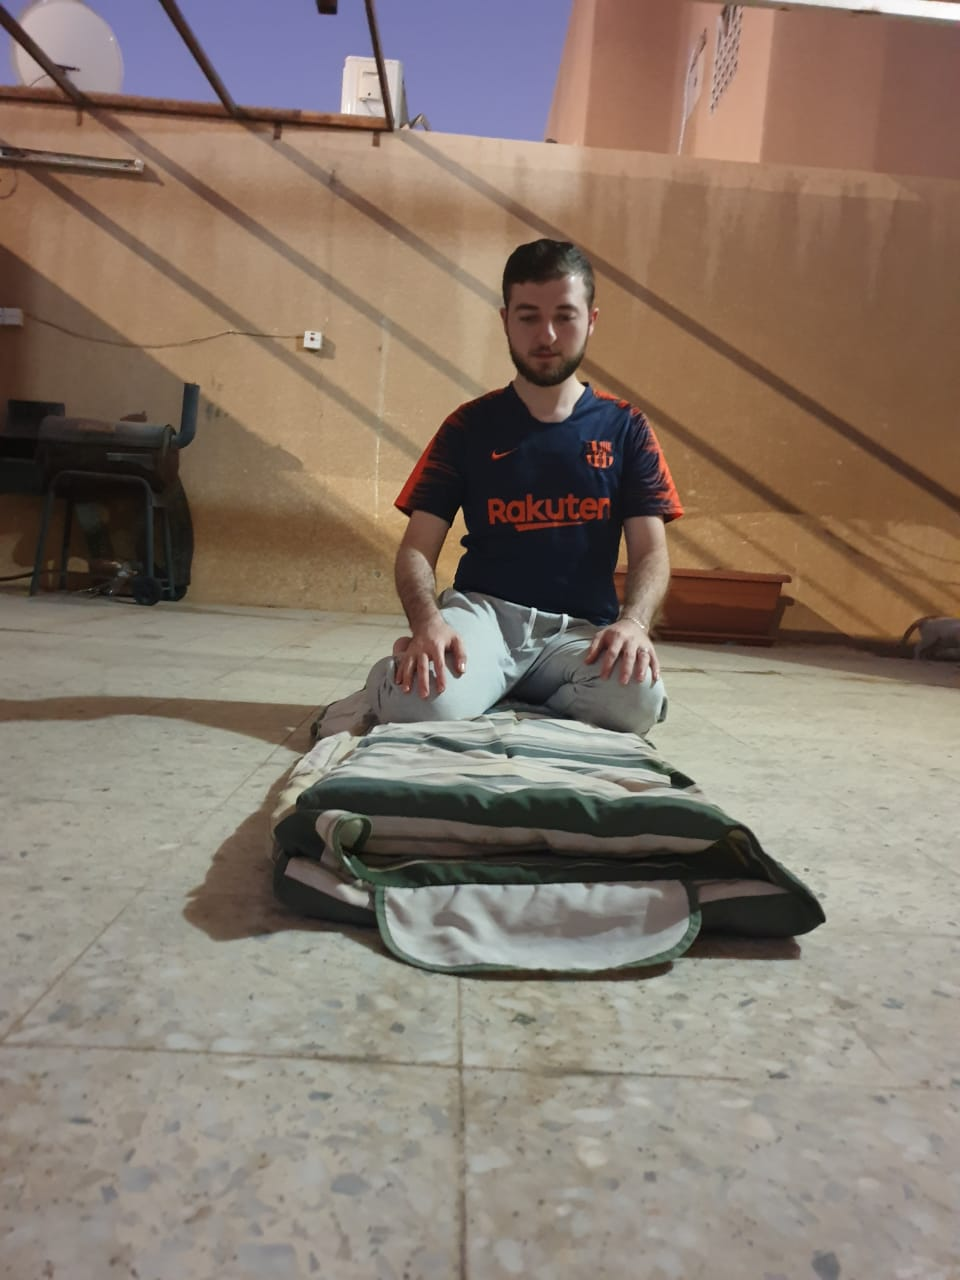sitting: (293, 219, 777, 751)
